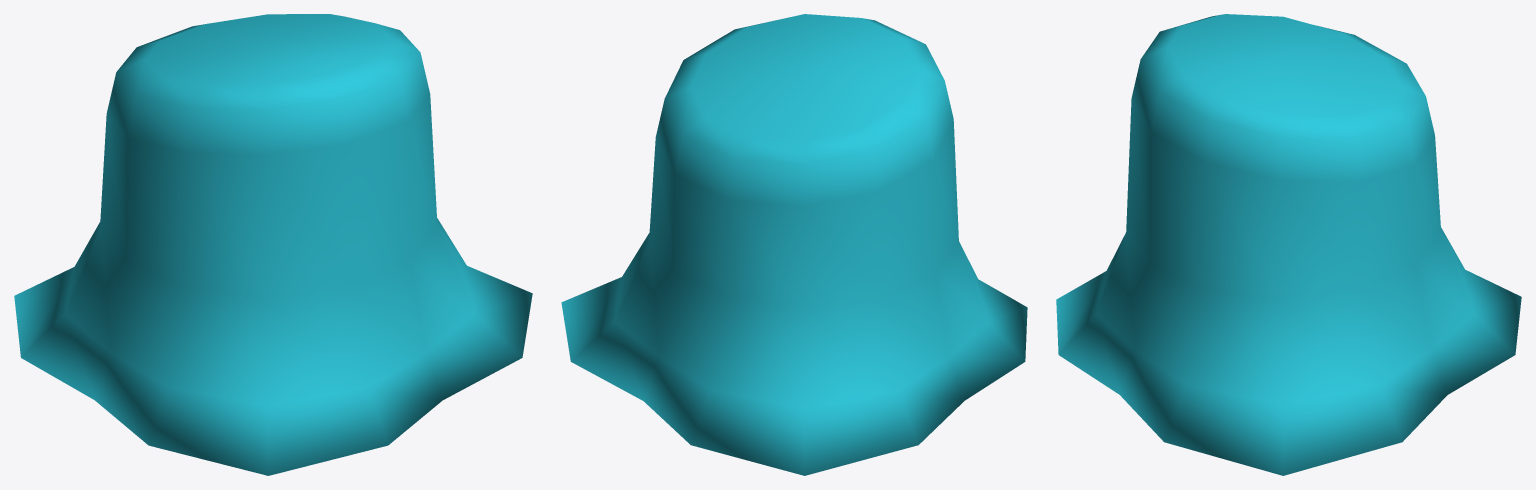
Rendered from Holo_Stump.glb.
3 renders of one model, left to right at view 1: azimuth 30°, elevation 25°; view 2: azimuth 150°, elevation 25°; view 3: azimuth 270°, elevation 25°, orthographic. The views are drawn at different scales.
Visible parts, largest first — view 1: Holo_Stump_0; view 2: Holo_Stump_0; view 3: Holo_Stump_0.
Boxes of the visible parts, x1,y1,x2,y2 form: Holo_Stump_0: (14, 14, 532, 475); Holo_Stump_0: (561, 14, 1027, 475); Holo_Stump_0: (1056, 14, 1521, 475).
Bounding box in the file's own units: 1.08 × 0.75 × 1.03.
